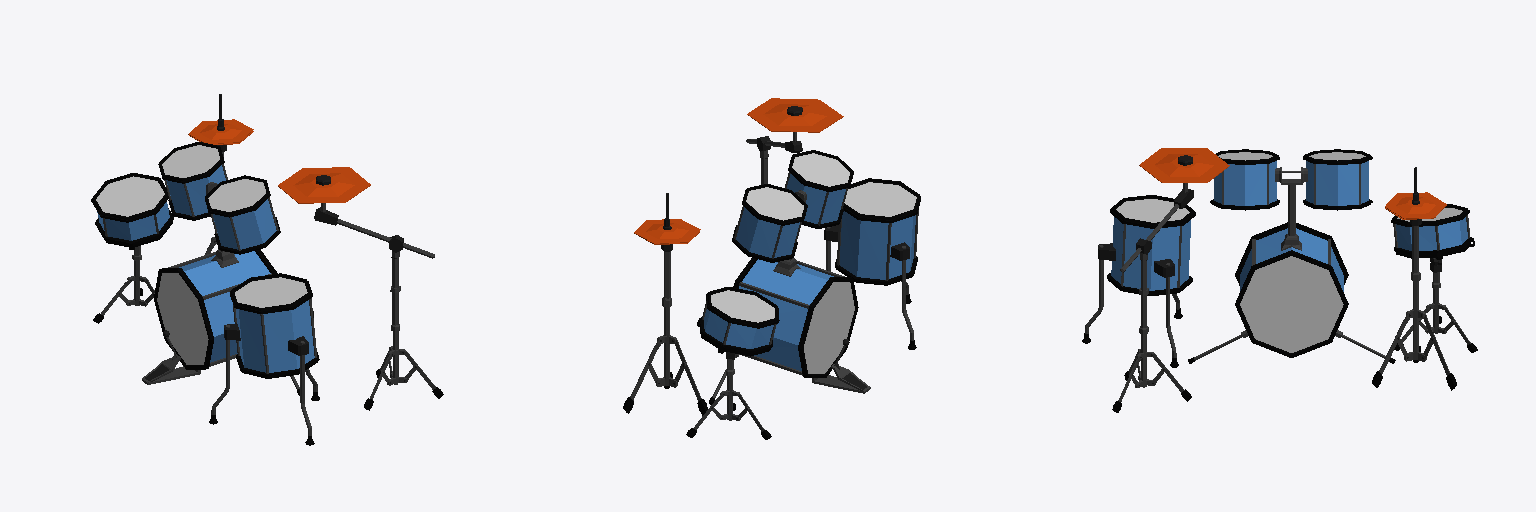
The model's file is Drumkit.obj.
3 renders of one model, left to right at view 1: azimuth 30°, elevation 25°; view 2: azimuth 150°, elevation 25°; view 3: azimuth 270°, elevation 25°, orthographic.
Visible parts, largest first — view 1: Base_Cylinder, FloorTom_Cylinder.006, SnareDrum_Cylinder.012, Crash_Cymbal_Cylinder.002, Crash/RideCymbal_Cylinder.005; view 2: Base_Cylinder, FloorTom_Cylinder.006, SnareDrum_Cylinder.012, Crash/RideCymbal_Cylinder.005, Crash_Cymbal_Cylinder.002; view 3: Base_Cylinder, FloorTom_Cylinder.006, Crash_Cymbal_Cylinder.002, SnareDrum_Cylinder.012, Crash/RideCymbal_Cylinder.005.
Boxes of the visible parts, x1=… form: Base_Cylinder: x1=142, y1=142, x2=299, y2=395; FloorTom_Cylinder.006: x1=209, y1=273, x2=319, y2=445; SnareDrum_Cylinder.012: x1=91, y1=173, x2=173, y2=323; Crash_Cymbal_Cylinder.002: x1=278, y1=167, x2=443, y2=410; Crash/RideCymbal_Cylinder.005: x1=188, y1=94, x2=253, y2=254; Base_Cylinder: x1=709, y1=150, x2=870, y2=404; FloorTom_Cylinder.006: x1=824, y1=178, x2=920, y2=349; SnareDrum_Cylinder.012: x1=686, y1=287, x2=779, y2=439; Crash/RideCymbal_Cylinder.005: x1=623, y1=193, x2=707, y2=415; Crash_Cymbal_Cylinder.002: x1=746, y1=98, x2=843, y2=184; Base_Cylinder: x1=1188, y1=149, x2=1395, y2=363; FloorTom_Cylinder.006: x1=1082, y1=195, x2=1195, y2=367; Crash_Cymbal_Cylinder.002: x1=1112, y1=148, x2=1229, y2=412; SnareDrum_Cylinder.012: x1=1391, y1=204, x2=1477, y2=352; Crash/RideCymbal_Cylinder.005: x1=1372, y1=167, x2=1456, y2=390.
Bounding box in the file's own units: 2.53 × 2.46 × 4.1.